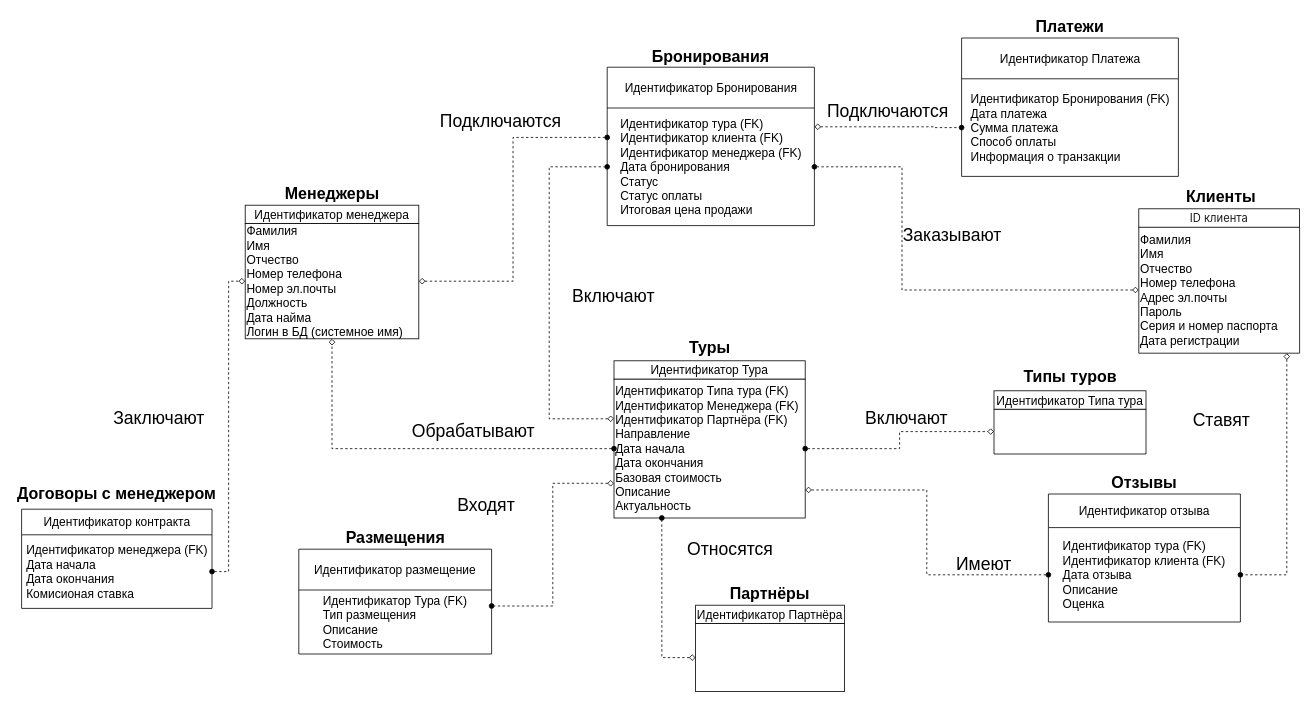
Some shapes in this 1314 by 706 pixel diagram are drawn without their labels. Here are the shapes that lost their labels. From the top down, the centre of each, then its label:
At point 1069,431: "Название типа тура Описание".
At point 769,657: "Название фирмы Тип партнёра Контакты Описание".
